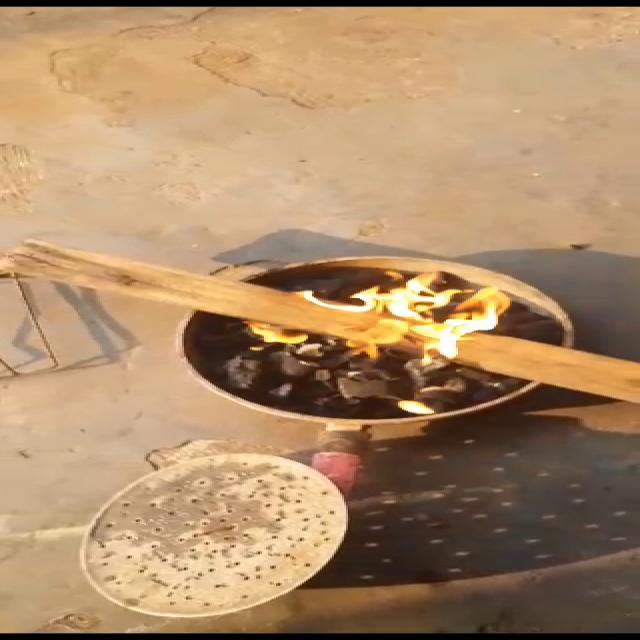Fire: (255, 266, 520, 380)
